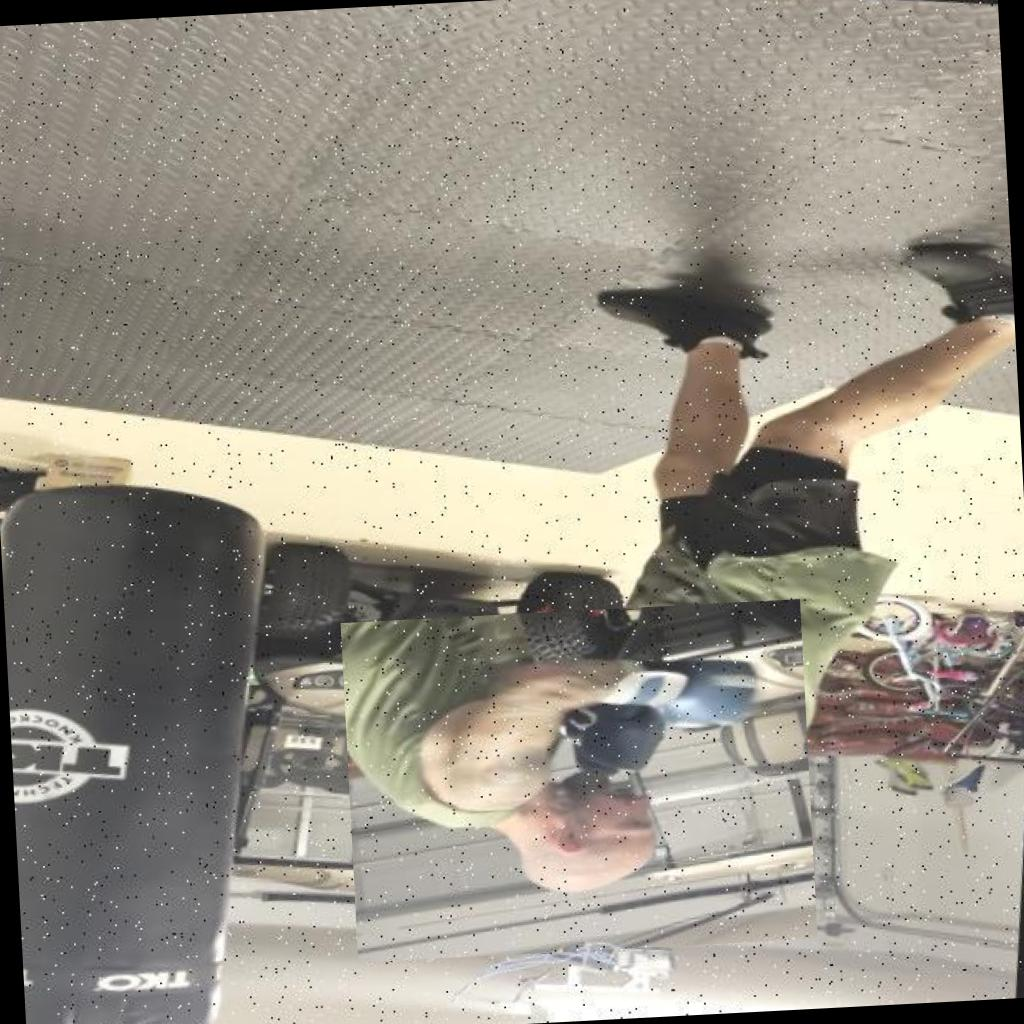bag: (0, 459, 287, 1024)
cross: (341, 600, 818, 962)
